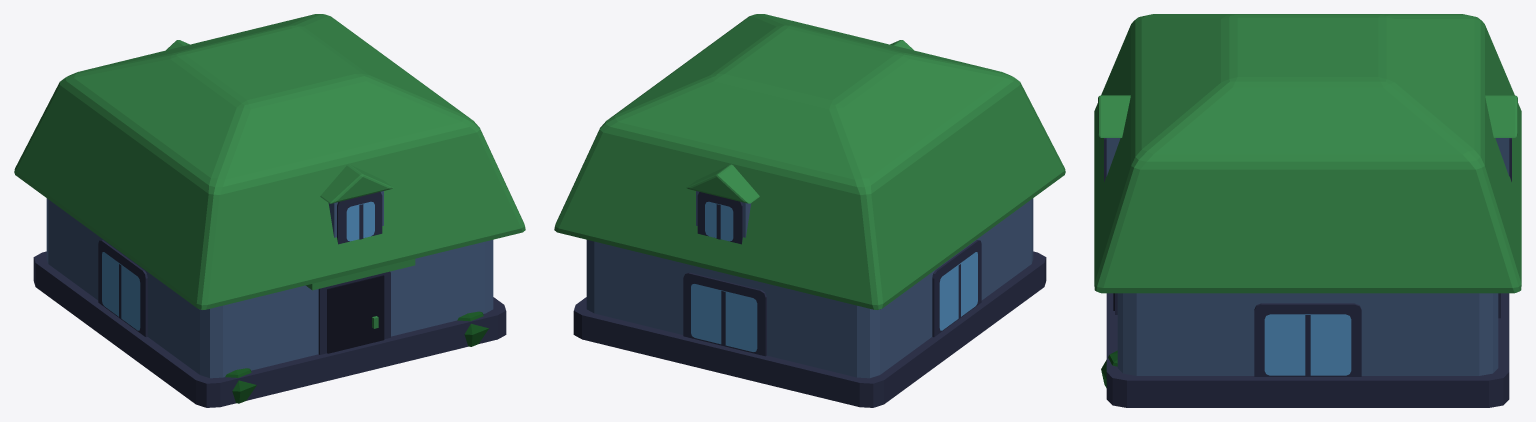
File: house-1x1-1f-mansard-b.glb
3 views of the same model, side by side, from view 1: azimuth 30°, elevation 25°; view 2: azimuth 150°, elevation 25°; view 3: azimuth 270°, elevation 25° (orthographic). The views are drawn at different scales.
Visible parts, largest first — view 1: house-1x1-1f-mansard-b; view 2: house-1x1-1f-mansard-b; view 3: house-1x1-1f-mansard-b.
Part boxes in pixels (left/top/right/bottom): house-1x1-1f-mansard-b: left=14, top=14, right=525, bottom=407; house-1x1-1f-mansard-b: left=554, top=14, right=1065, bottom=407; house-1x1-1f-mansard-b: left=1094, top=14, right=1521, bottom=407.
Bounding box in the file's own units: 0.9876 × 0.7026 × 0.9876.
Materials: 1 (1 with a texture image).
